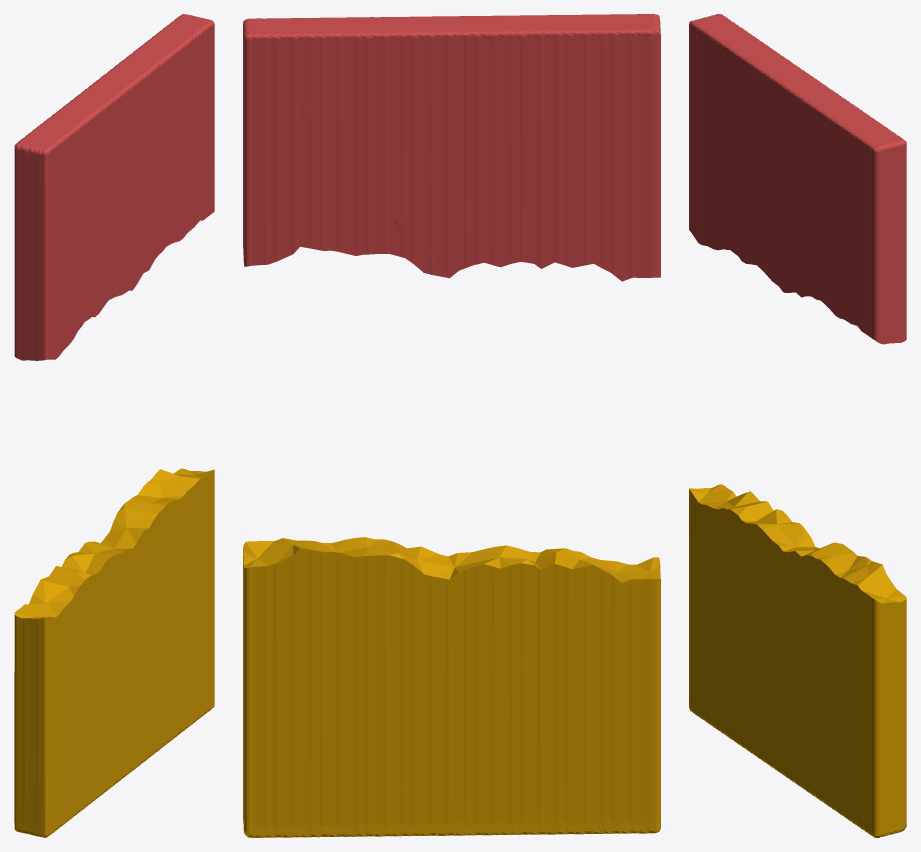
File: fractured_3_2pcs_transformed.glb
3 views of the same model, side by side, from view 1: azimuth 30°, elevation 25°; view 2: azimuth 150°, elevation 25°; view 3: azimuth 270°, elevation 25° (orthographic). The views are drawn at different scales.
Visible parts, largest first — view 1: piece_0.obj, piece_1.obj; view 2: piece_0.obj, piece_1.obj; view 3: piece_0.obj, piece_1.obj.
Part boxes in pixels (x1,y1,x2,y2): piece_0.obj: (14,468,214,837); piece_1.obj: (14,14,214,360); piece_0.obj: (243,537,660,837); piece_1.obj: (243,14,660,281); piece_0.obj: (689,484,906,837); piece_1.obj: (689,14,906,344).
Bounding box in the file's own units: 0.6757 × 1.6 × 0.4568.
